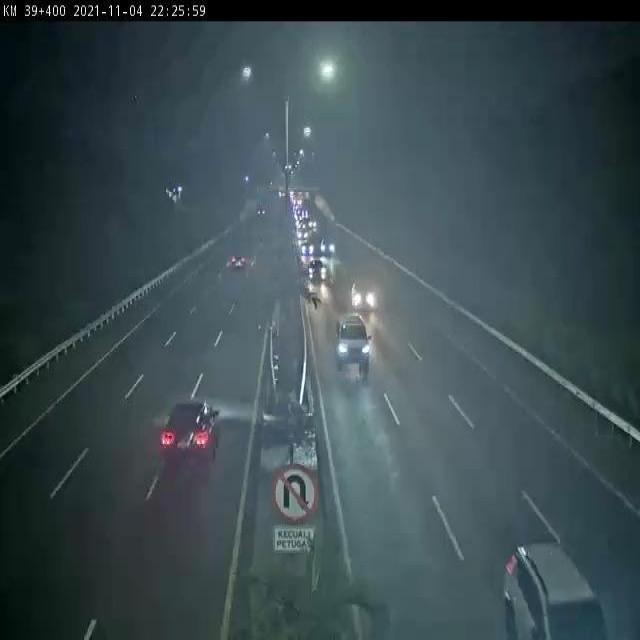car: (503, 544, 611, 640), (165, 400, 218, 460), (335, 314, 370, 374), (350, 281, 377, 312), (310, 262, 329, 282), (320, 236, 335, 253), (301, 241, 315, 256), (230, 255, 246, 265), (307, 216, 317, 227), (299, 228, 307, 239)
